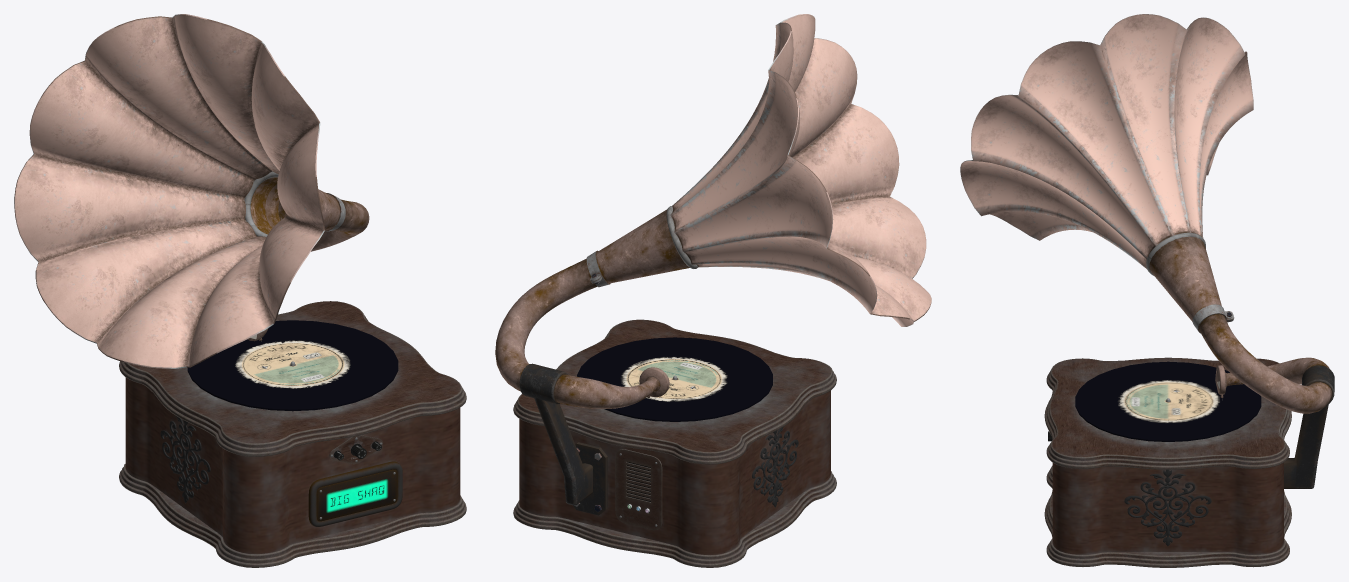
The model's file is obj_phonograph_9627fe.glb.
3 views of the same model, side by side, from view 1: azimuth 30°, elevation 25°; view 2: azimuth 150°, elevation 25°; view 3: azimuth 270°, elevation 25° (orthographic). The views are drawn at different scales.
Visible parts, largest first — view 1: obj_phonograph_9627fe; view 2: obj_phonograph_9627fe; view 3: obj_phonograph_9627fe.
Boxes of the visible parts, box(x1,y1,x2,y2) form: obj_phonograph_9627fe: box(14, 14, 466, 567); obj_phonograph_9627fe: box(495, 14, 931, 567); obj_phonograph_9627fe: box(960, 14, 1334, 567).
Size of the model in its own units: 0.3396 by 0.45 by 0.3325.
26 materials, 26 textured.
